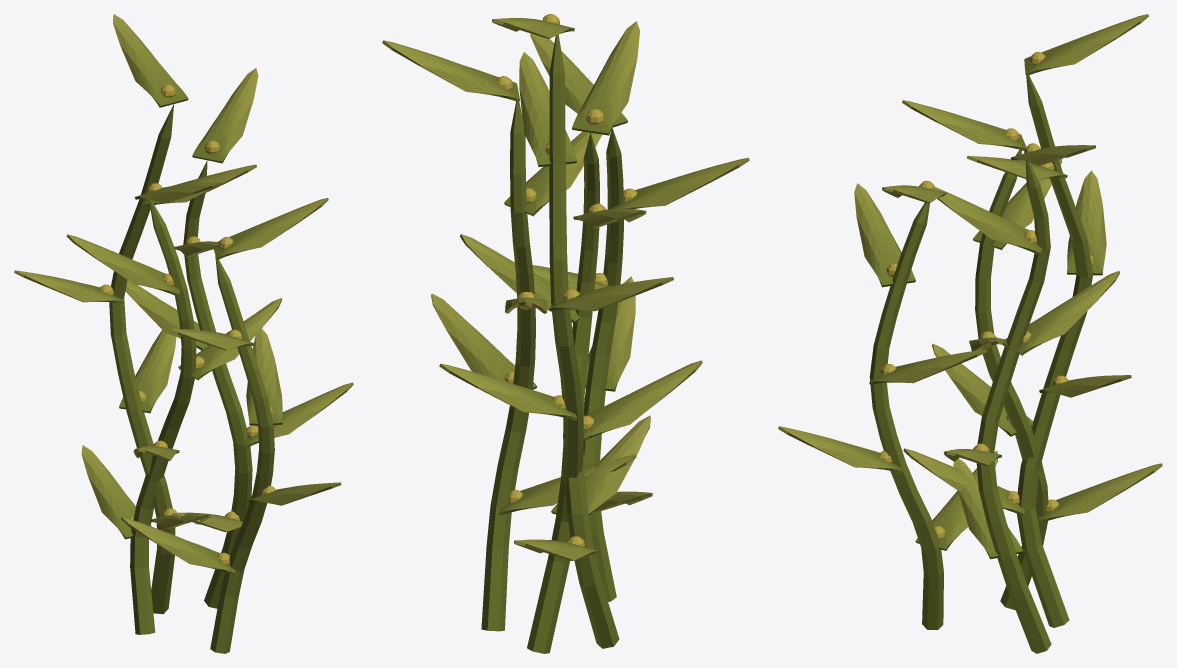
Rendered from KelpStalks.glb.
3 renders of one model, left to right at view 1: azimuth 30°, elevation 25°; view 2: azimuth 150°, elevation 25°; view 3: azimuth 270°, elevation 25°, orthographic. The views are drawn at different scales.
Parts seen in each view (by area): view 1: KelpStalks; view 2: KelpStalks; view 3: KelpStalks.
Boxes of the visible parts, x1,y1,x2,y2 form: KelpStalks: [14, 14, 353, 653]; KelpStalks: [382, 14, 749, 653]; KelpStalks: [778, 14, 1162, 653].
Size of the model in its own units: 3.42 by 6.8 by 3.89.
1 material, 1 textured.
